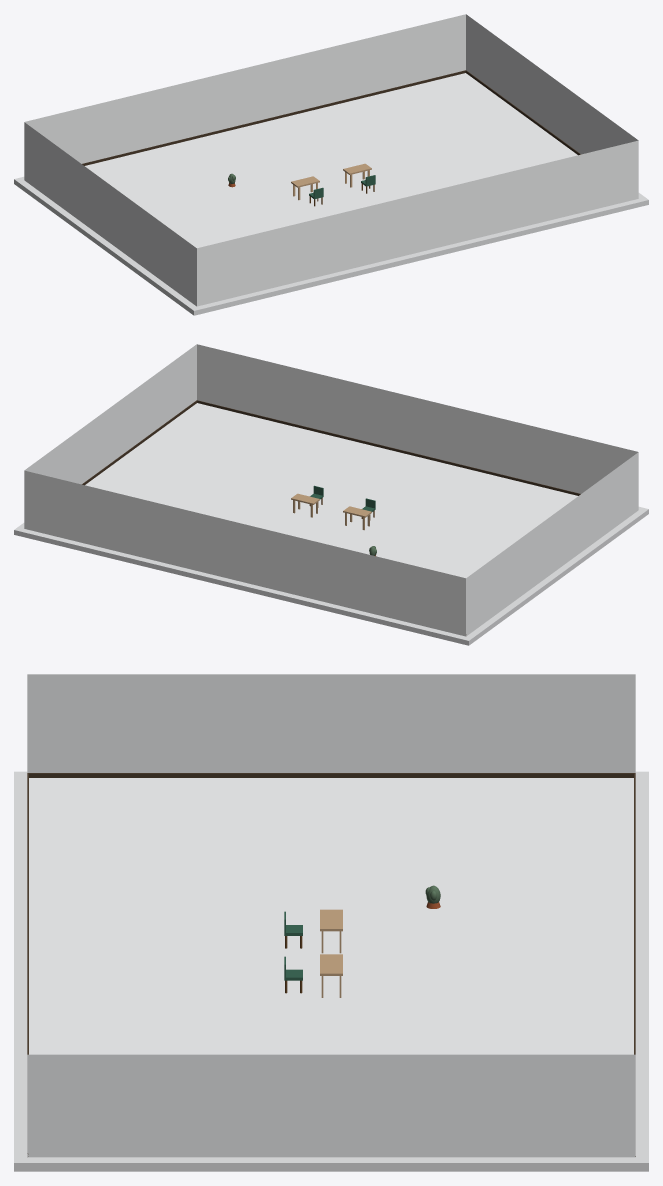
The picture shows the model from 3 angles, top to bottom: view 1: azimuth 30°, elevation 25°; view 2: azimuth 150°, elevation 25°; view 3: azimuth 270°, elevation 25°; orthographic projection. The views are drawn at different scales.
Parts seen in each view (by area): view 1: object 1, object 5, object 3, object 7, object 9, object 2, object 4; view 2: object 1, object 3, object 5, object 7, object 9, object 2, object 6; view 3: object 1, object 9, object 7, object 2, object 8.
Boxes of the visible parts, box(x1,y1,x2,y2) form: object 1: box(85, 73, 577, 248); object 5: box(197, 140, 638, 306); object 3: box(24, 14, 465, 163); object 7: box(24, 122, 196, 306); object 9: box(466, 14, 638, 154); object 2: box(14, 176, 648, 315); object 4: box(82, 70, 466, 165); object 1: box(85, 403, 577, 578); object 3: box(24, 470, 465, 636); object 5: box(197, 344, 638, 493); object 7: box(466, 452, 638, 636); object 9: box(24, 344, 196, 484); object 2: box(14, 506, 648, 645); object 6: box(196, 400, 580, 495); object 1: box(29, 778, 633, 1054); object 9: box(27, 1054, 635, 1157); object 7: box(27, 674, 635, 772); object 2: box(14, 771, 648, 1171); object 8: box(29, 773, 633, 777).
Size of the model in its own units: 24.5 by 3.25 by 16.8.
